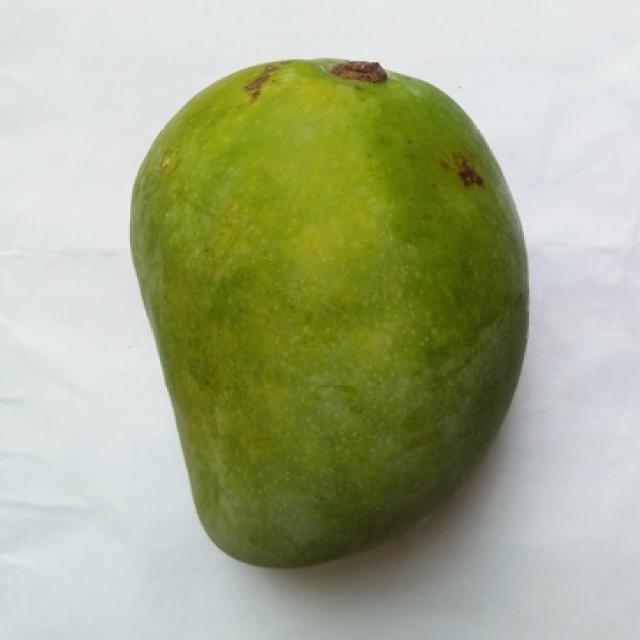Mango: (134, 61, 526, 564)
